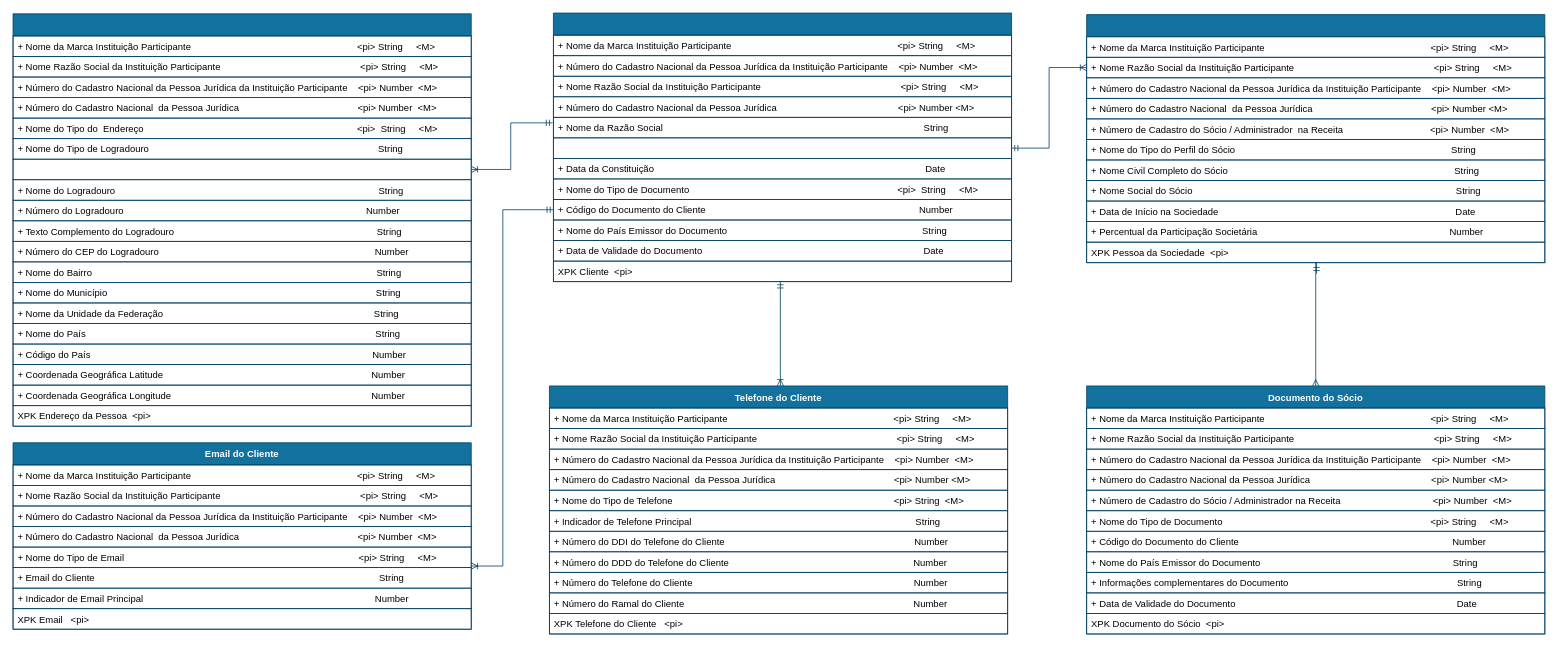
The diagram is 1558 pixels wide and 647 high, and some of its shapes have lost their labels. The box of each missing label's shape, as (x1, y1, x2, y2) in pixels:
+ Indicador de Endereço Principal String: (12, 158, 471, 180)
+ Nome Fantasia String: (553, 137, 1012, 158)
Cliente Pessoa Jurídica: (553, 12, 1012, 282)
Endereço do Cliente: (12, 13, 471, 426)
Parte envolvida (Pessoa da sociedade): (1086, 14, 1545, 263)
